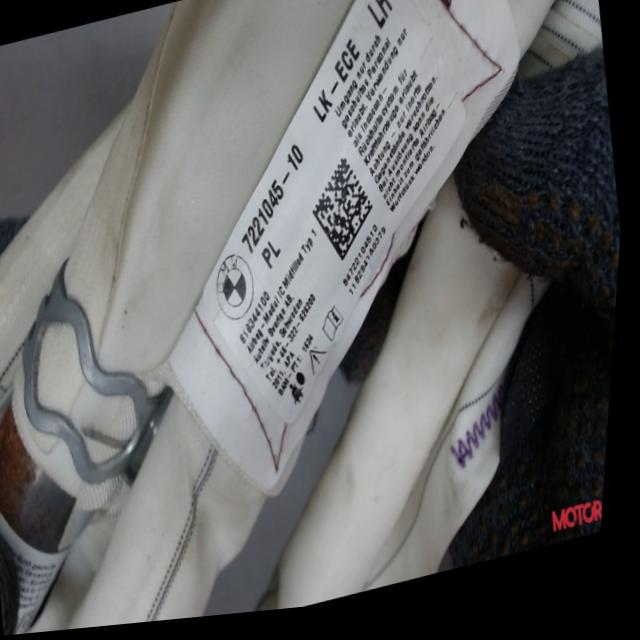datamatrix: (306, 158, 388, 276)
